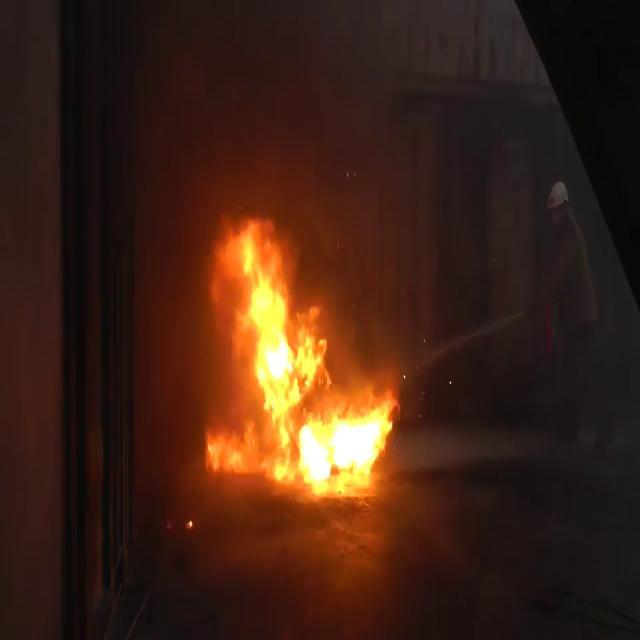Fire: (196, 208, 402, 498)
